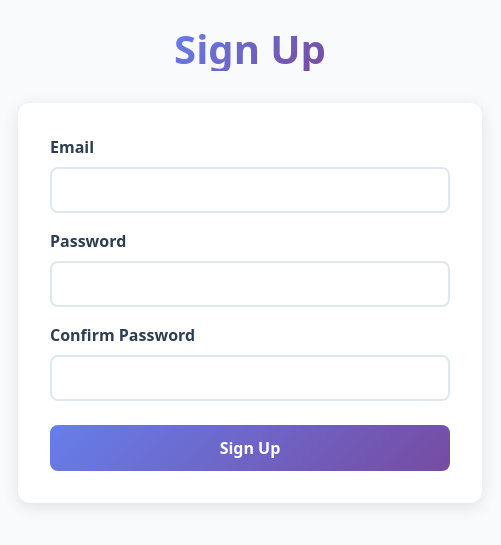
Test: SignUpPage › shows error when passwords do not match
The width and height of the screenshot is (501, 545).
Step 1. Type "test@example.com" into the field labelled "Email" → (250, 190), box [50,167,450,213]
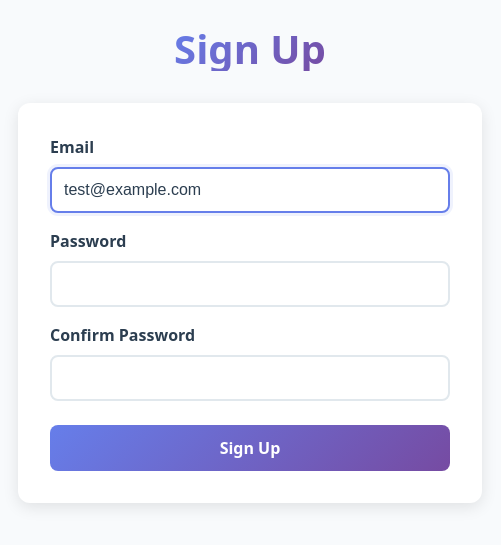
Step 2. Type "password123" into the password field labelled "Password" → (250, 284), box [50,261,450,307]
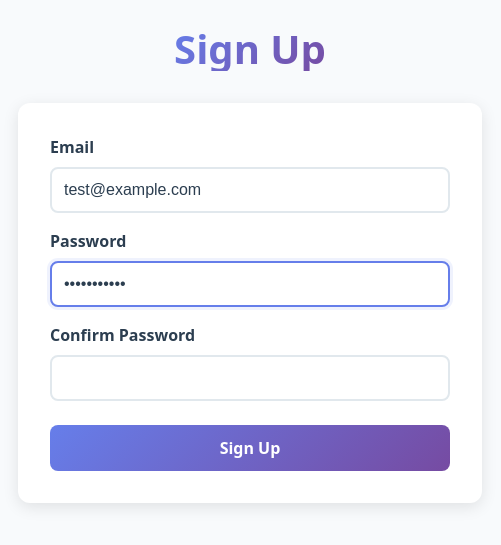
Step 3. Type "differentpassword" into the password field labelled "Confirm Password" → (250, 378), box [50,355,450,401]
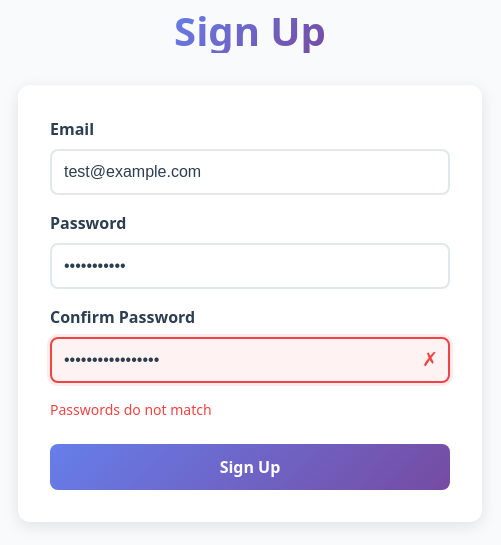
Expected: the text "Passwords do not match" is shown, [50,400,212,419]
Expected: the text "✗" is shown, [422,346,438,374]
